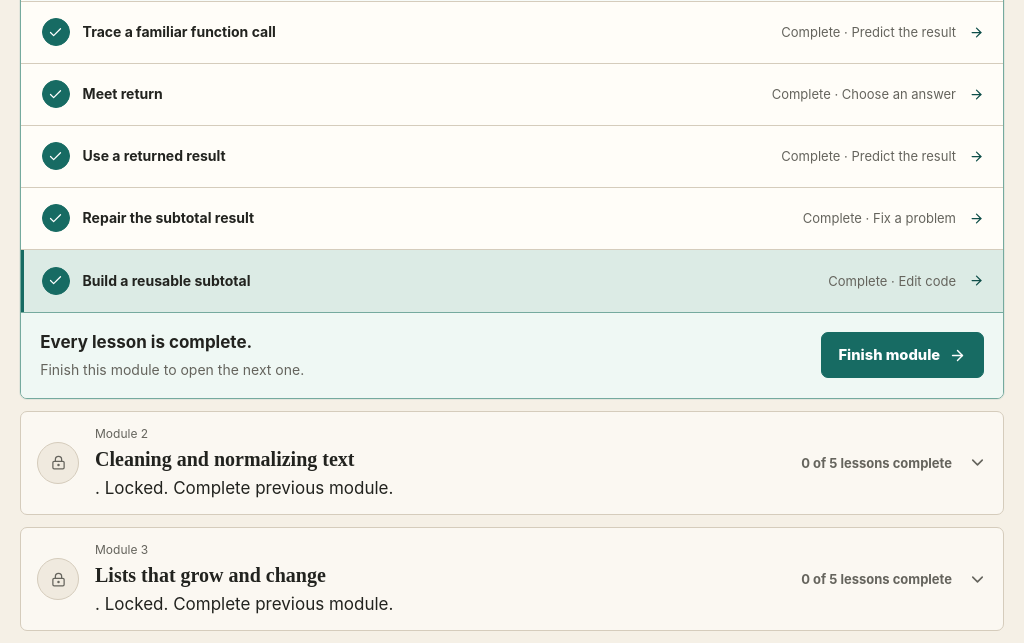
Test: Practical Python route components › offers module completion only after all five lessons and sends the progress update
(page scrolled)
Click the button "Finish module" at coordinates (902, 355), box [821,332,984,378]
(page scrolled)
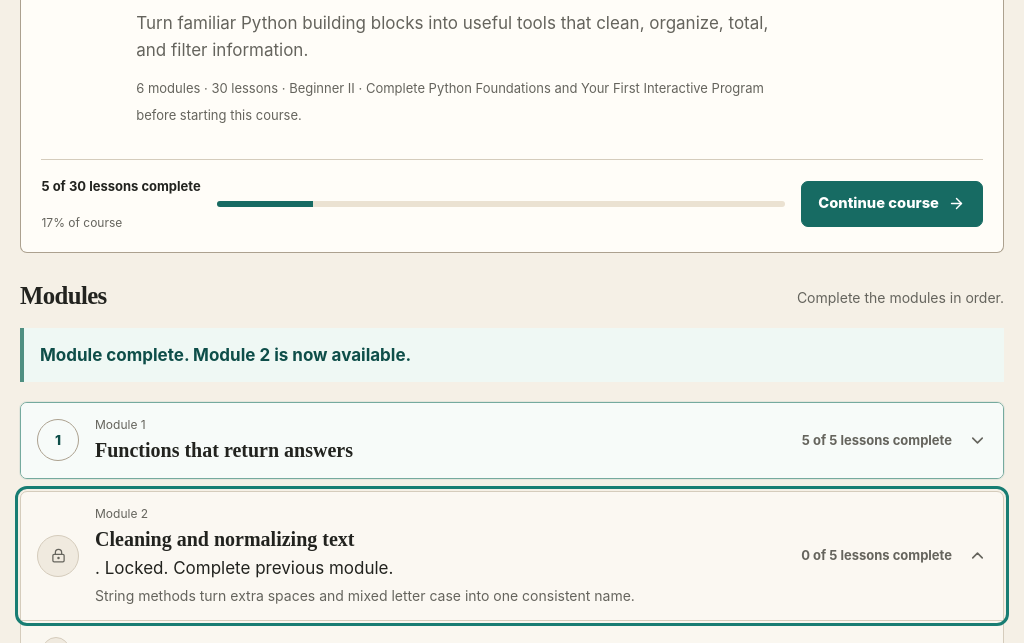
Expected: the message reads "Module complete. Module 2 is now available.", [40,345,411,365]
